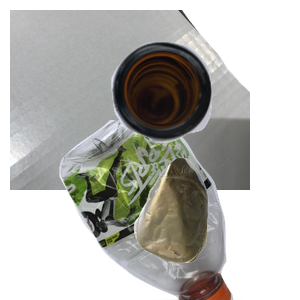cardboard: (10, 10, 250, 190)
glass: (109, 39, 300, 175)
plastic: (57, 120, 293, 300)
trash: (131, 155, 300, 300)
